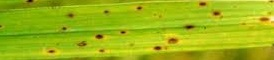Bercak Coklat: (150, 44, 165, 55), (209, 9, 225, 19), (92, 31, 107, 41), (182, 23, 197, 31), (196, 1, 210, 8)
